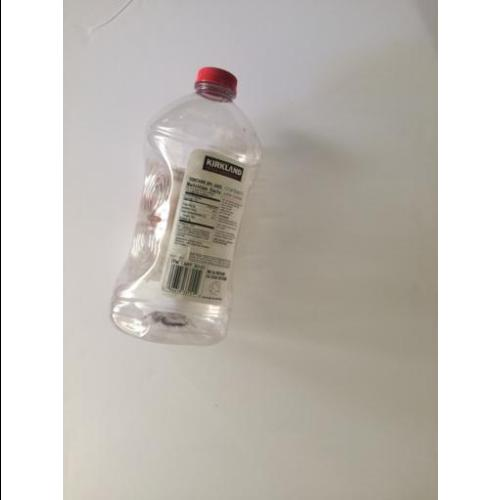plastic: (111, 69, 257, 345)
